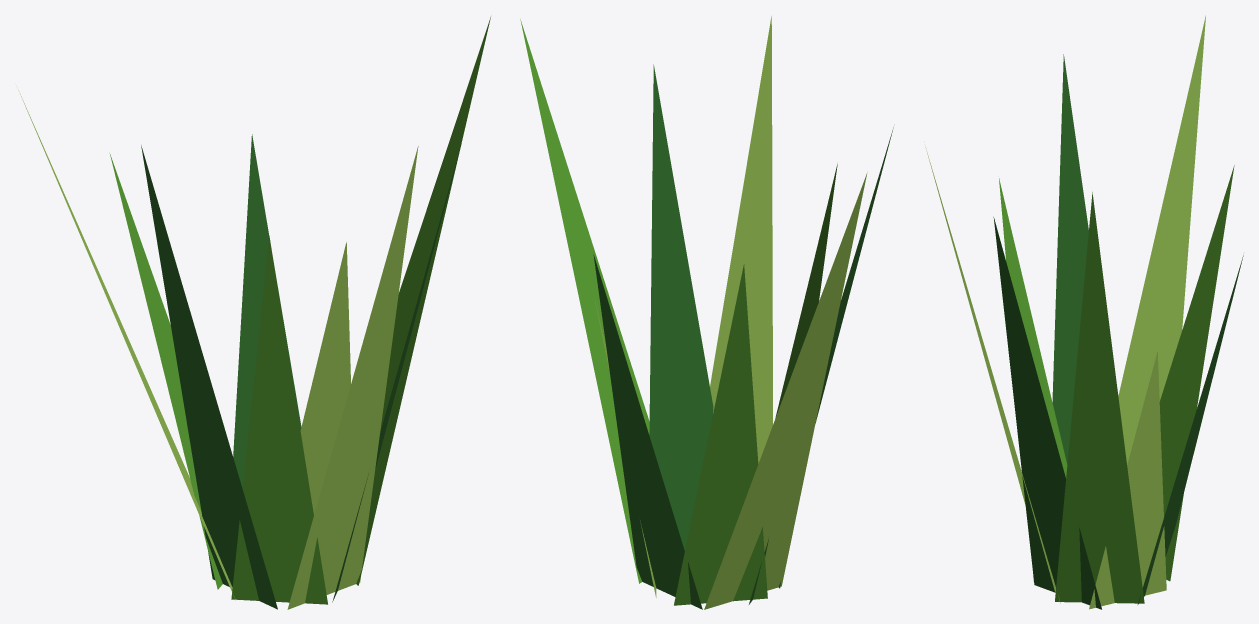
Rendered from grass_tuft_1.glb.
3 renders of one model, left to right at view 1: azimuth 30°, elevation 25°; view 2: azimuth 150°, elevation 25°; view 3: azimuth 270°, elevation 25°, orthographic. The views are drawn at different scales.
Parts seen in each view (by area): view 1: grass_tuft_1; view 2: grass_tuft_1; view 3: grass_tuft_1.
Part boxes in pixels (bbox=[...]): grass_tuft_1: bbox=[18, 17, 490, 609]; grass_tuft_1: bbox=[520, 16, 893, 609]; grass_tuft_1: bbox=[925, 15, 1243, 609].
Size of the model in its own units: 0.6891 by 0.8232 by 0.5001.
